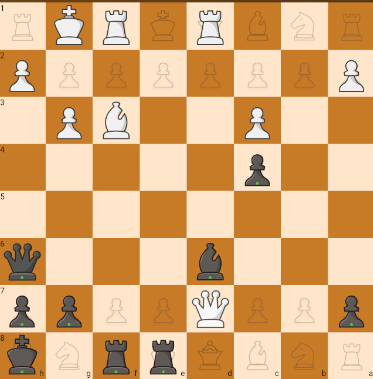bb: (190, 240, 230, 282)
bk: (2, 333, 43, 376)
bp: (53, 287, 92, 331), (237, 149, 277, 188), (3, 290, 42, 329), (334, 290, 369, 330)
bq: (0, 239, 42, 281)
br: (144, 336, 182, 376), (98, 336, 134, 376)
wb: (96, 100, 133, 142)
wk: (49, 3, 89, 50)
wp: (2, 50, 42, 95), (50, 99, 86, 140), (239, 104, 276, 140), (334, 55, 368, 94)
wq: (188, 286, 230, 330)
wr: (94, 5, 138, 48), (190, 5, 228, 48)
